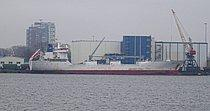Ship: (17, 38, 189, 79)
